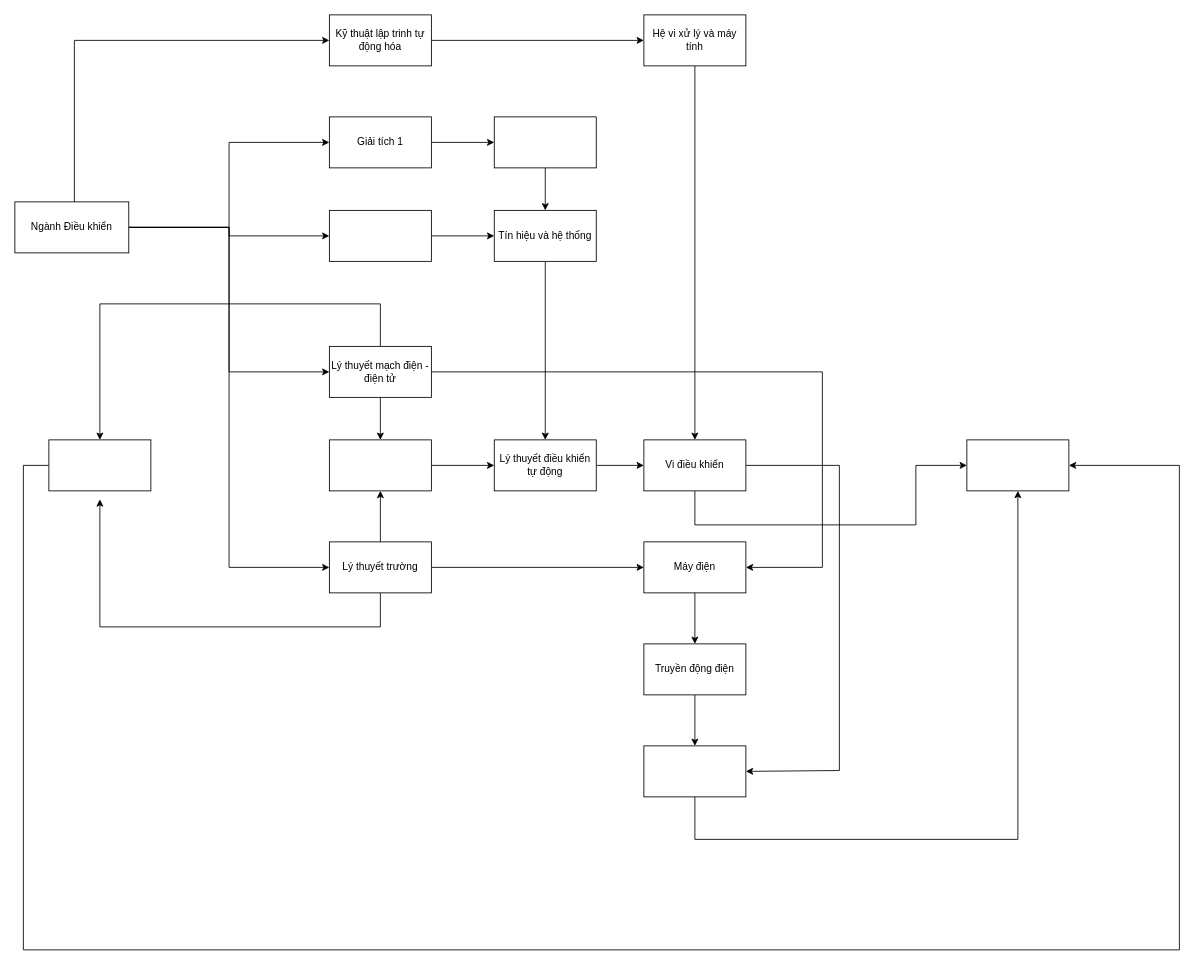
The diagram is 1201 pixels wide and 972 high, and some of its shapes have lost their labels. The shapes that lost their labels are listed below. From the top down, each one's box as (x1, y1, x2, y2) in pixels, then its label:
(493, 116, 596, 168): Giải tích 2
(329, 210, 431, 261): Đại số
(48, 439, 151, 491): Điện tử công suất
(329, 439, 431, 491): Điện tử tương tự và số
(966, 439, 1069, 491): Điều khiển số
(643, 745, 746, 797): Điều khiển tự động truyền động điện
